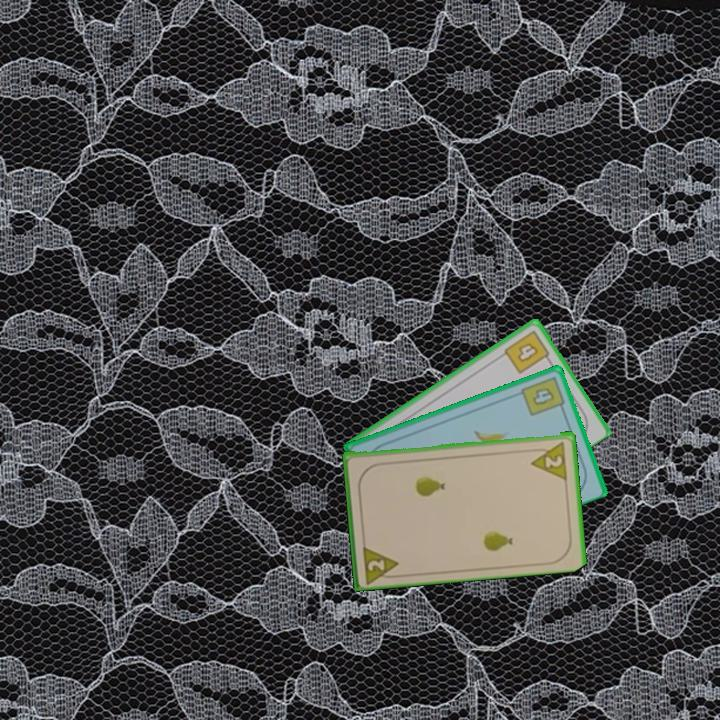2p: (527, 438, 570, 481), (364, 555, 388, 574)
4b: (500, 327, 554, 377), (517, 373, 568, 419)
